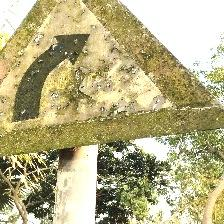Right-turn: (0, 1, 221, 155)
